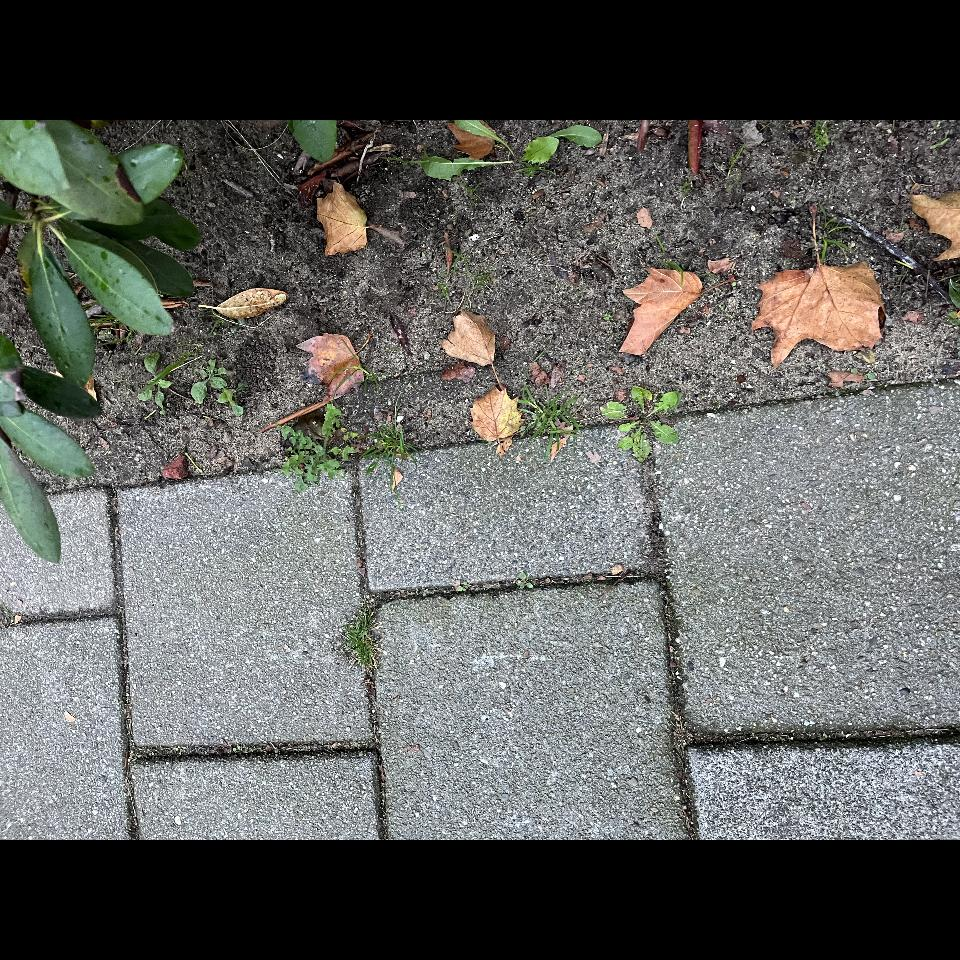weed: (368, 389, 429, 527), (395, 718, 453, 812), (168, 462, 236, 502), (389, 658, 439, 684)
